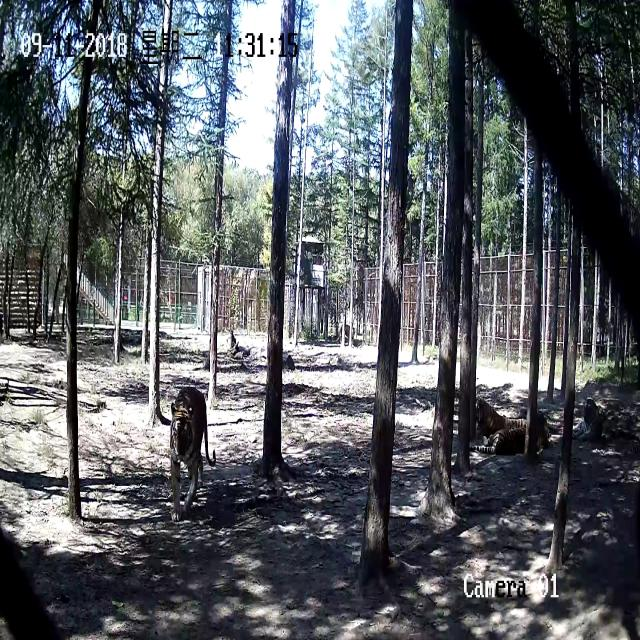Tiger: (164, 379, 222, 517), (460, 382, 550, 467), (577, 388, 615, 456)
